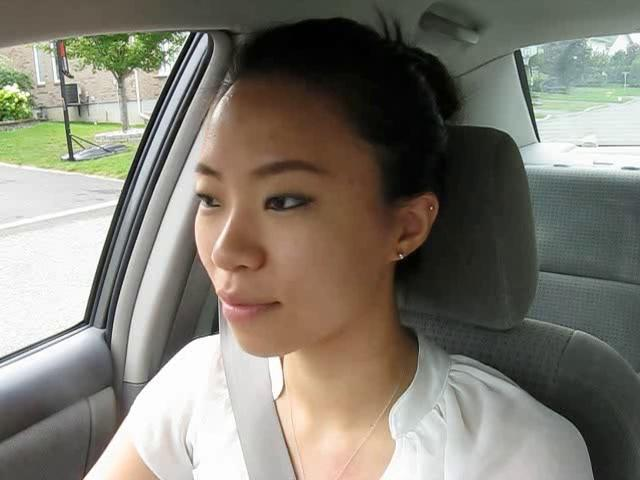no_yawn: (199, 277, 296, 331)
open_eyeL: (185, 179, 232, 222)
open_eyeR: (251, 180, 327, 228)
